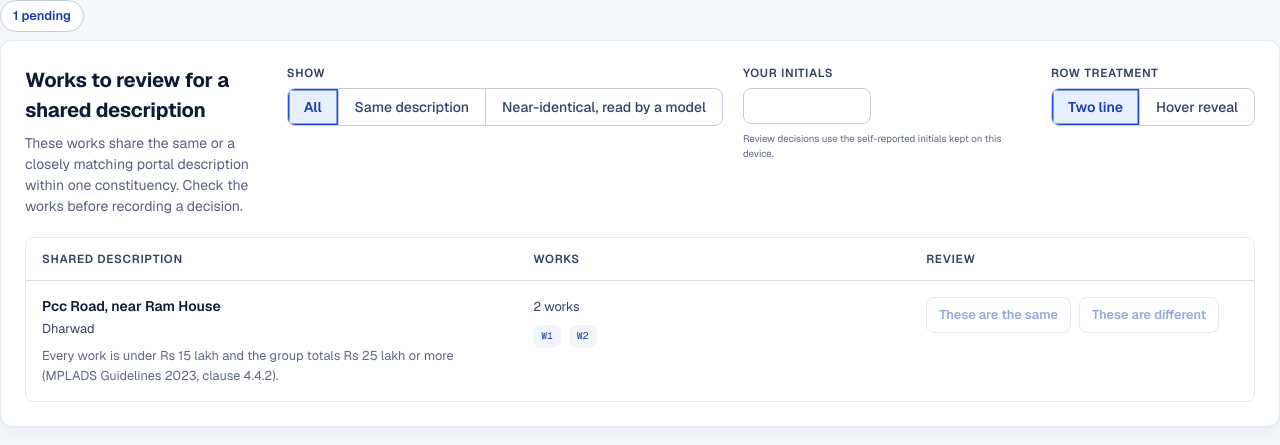
Test: DuplicateReviewQueue › requires self-reported initials and sends the server decision enum
Expected: the button "These are the same" is disabled, [926,297,1071,333]
Type "AB" into the field labelled "Your initials" at point(807, 106), box [743,88,871,124]
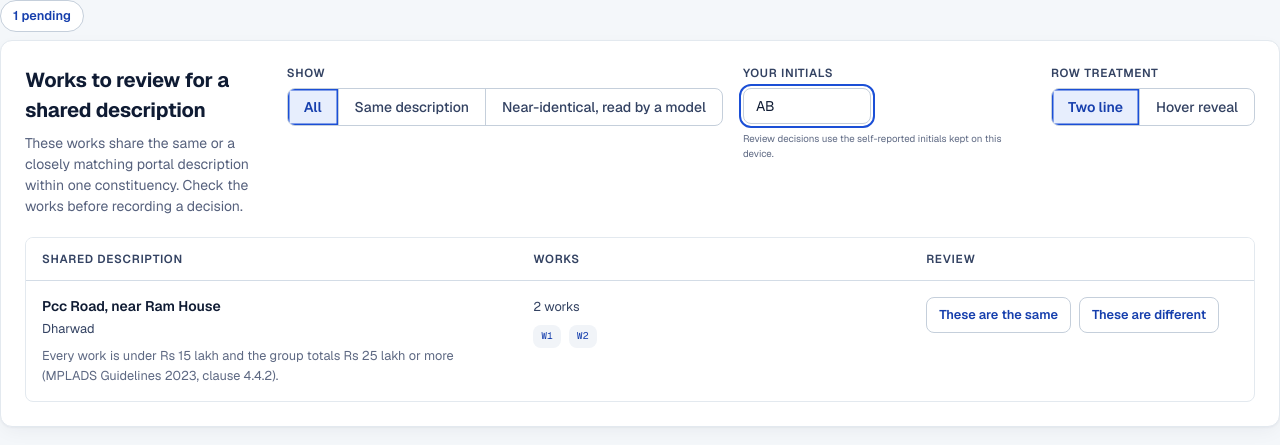
Expected: the button "These are the same" is enabled
Click the button "These are the same" at point(998, 315), box [926,297,1071,333]
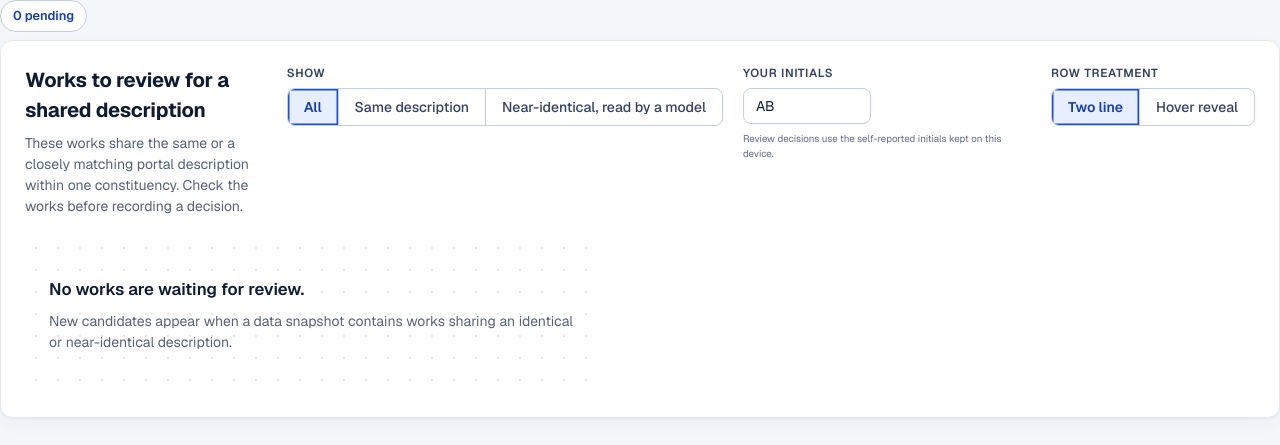
Expected: the text "No works are waiting for review." is shown, [49,278,304,300]
